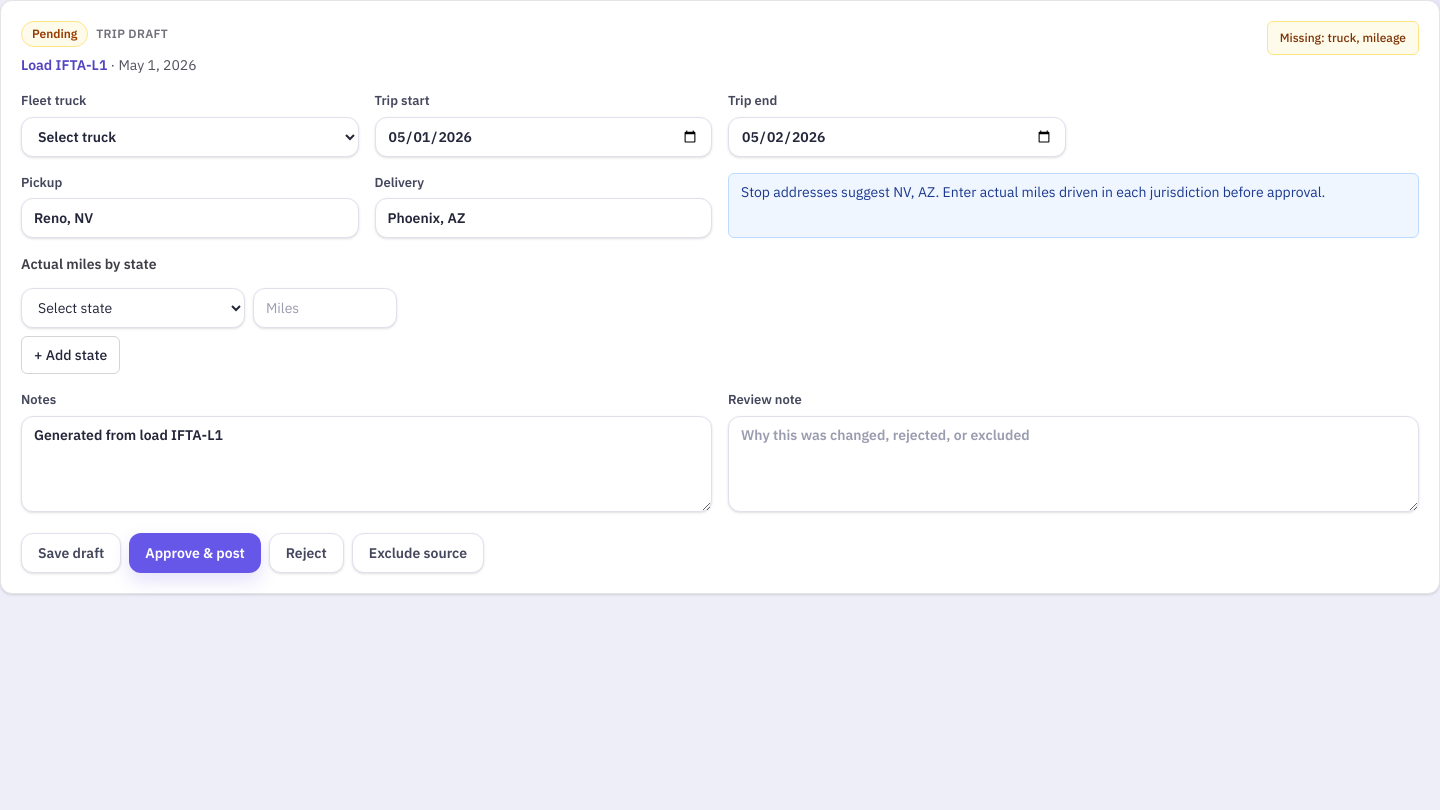
Test: IftaDraftReview › allows adding and removing state mileage rows
Click the button "+ Add state": (71, 355) top-left (21, 336), bottom-right (120, 374)
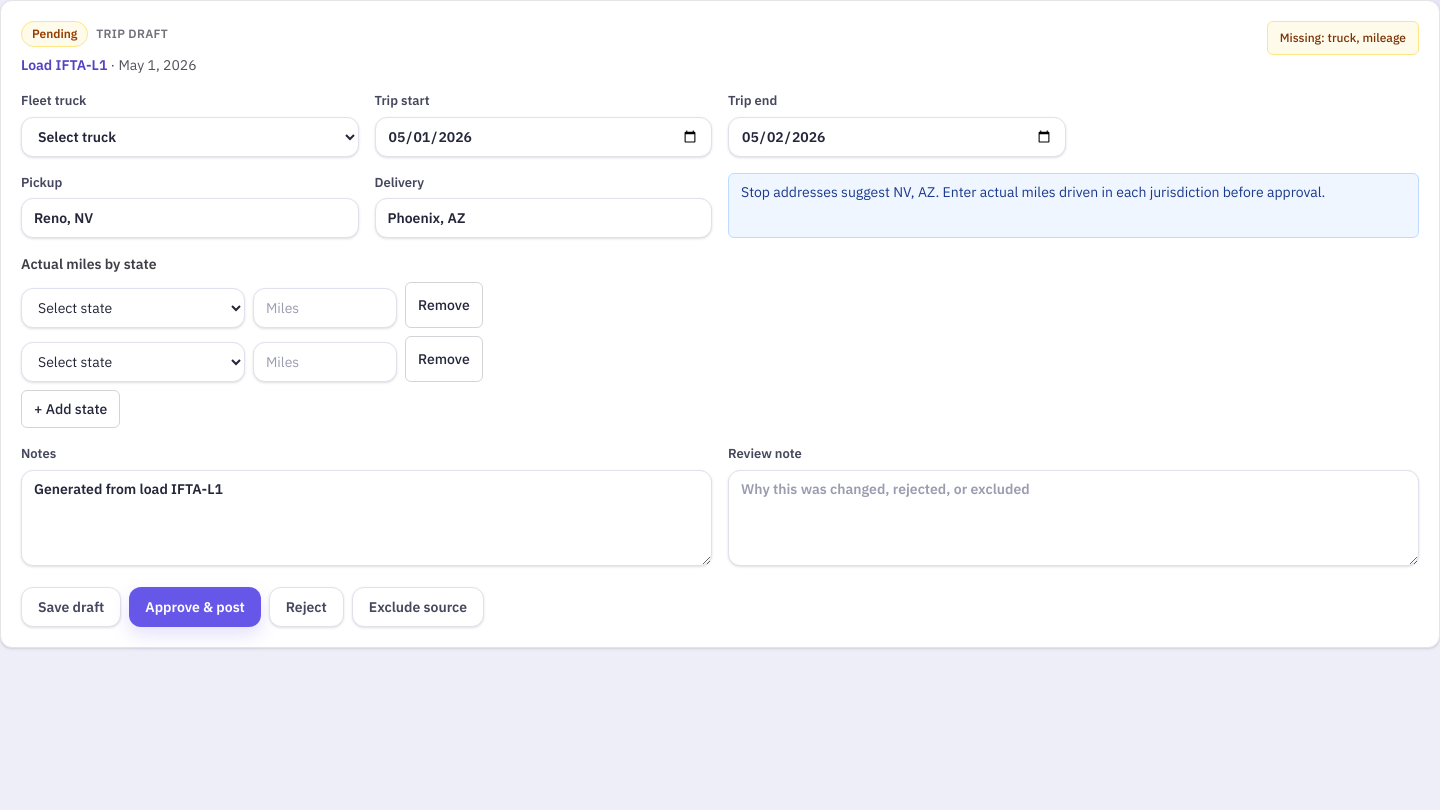
Click the 1st button "Remove": (444, 305) top-left (405, 282), bottom-right (483, 328)
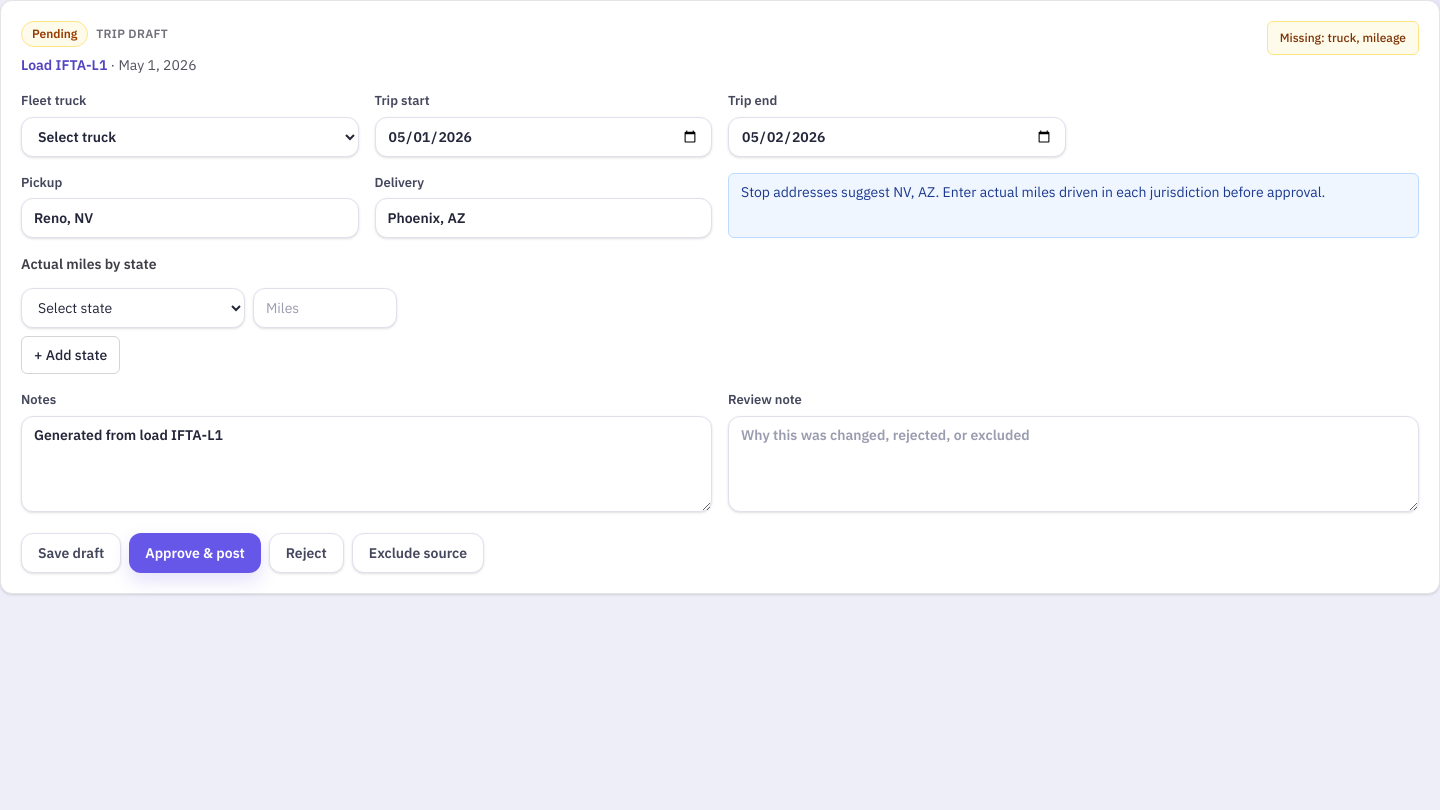
Now the button "Remove" is gone
